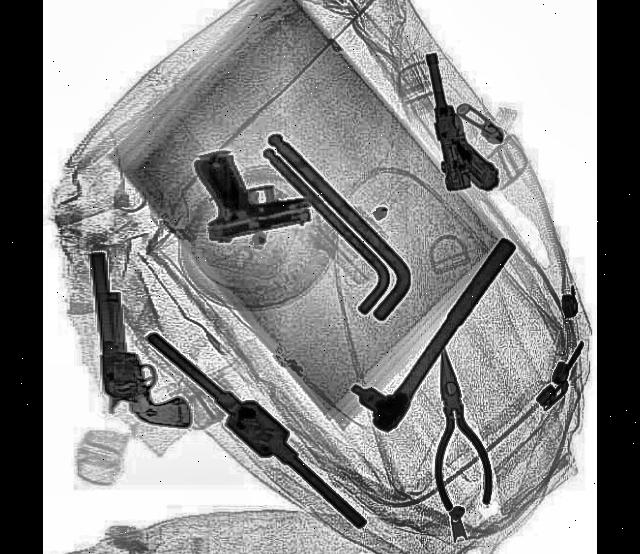Gun: (88, 241, 190, 441), (421, 38, 502, 204), (192, 140, 312, 244)
Pliers: (416, 343, 496, 517)
